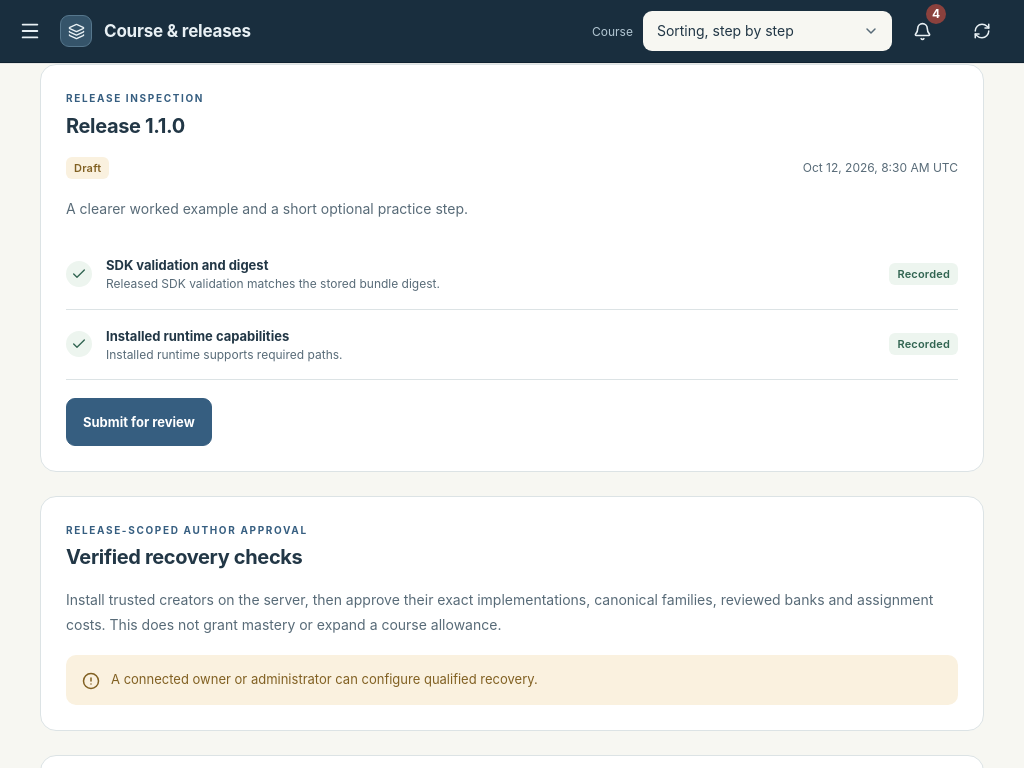
Test: admin presentation workflows › keeps release publication gated through the review state
(page scrolled)
Click the button "Submit for review" at (139, 422), box [66, 398, 212, 446]
(page scrolled)
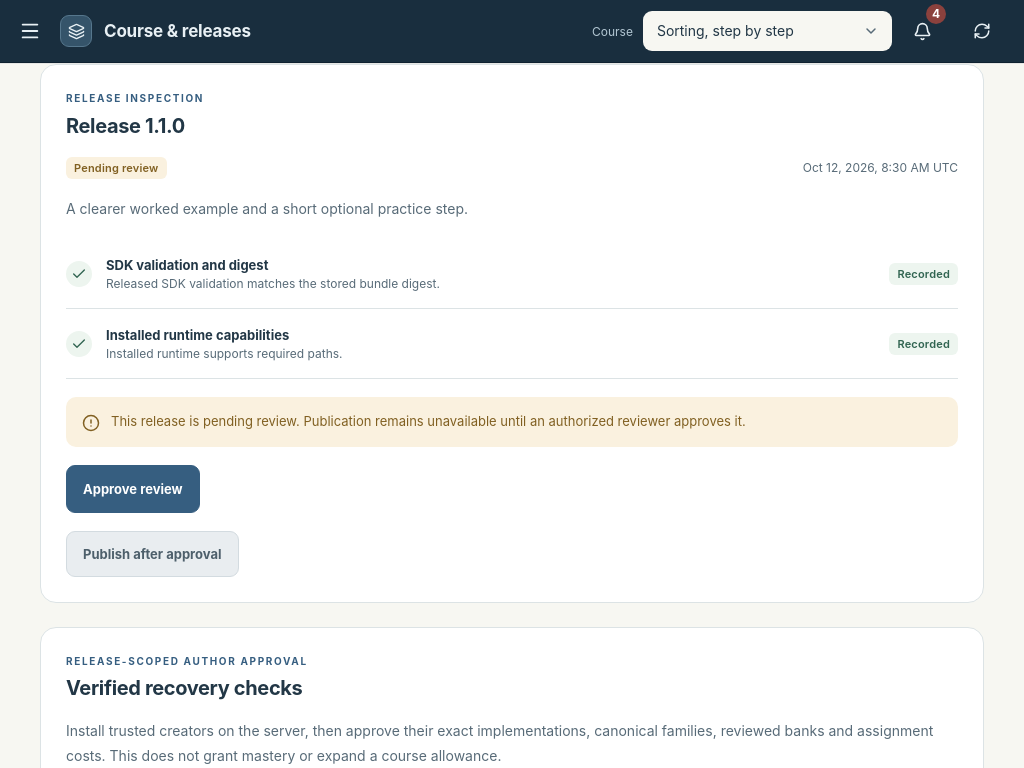
Check: the button "Publish after approval" is disabled, box [66, 531, 239, 577]
Click the button "Approve review" at (133, 489), box [66, 465, 200, 513]
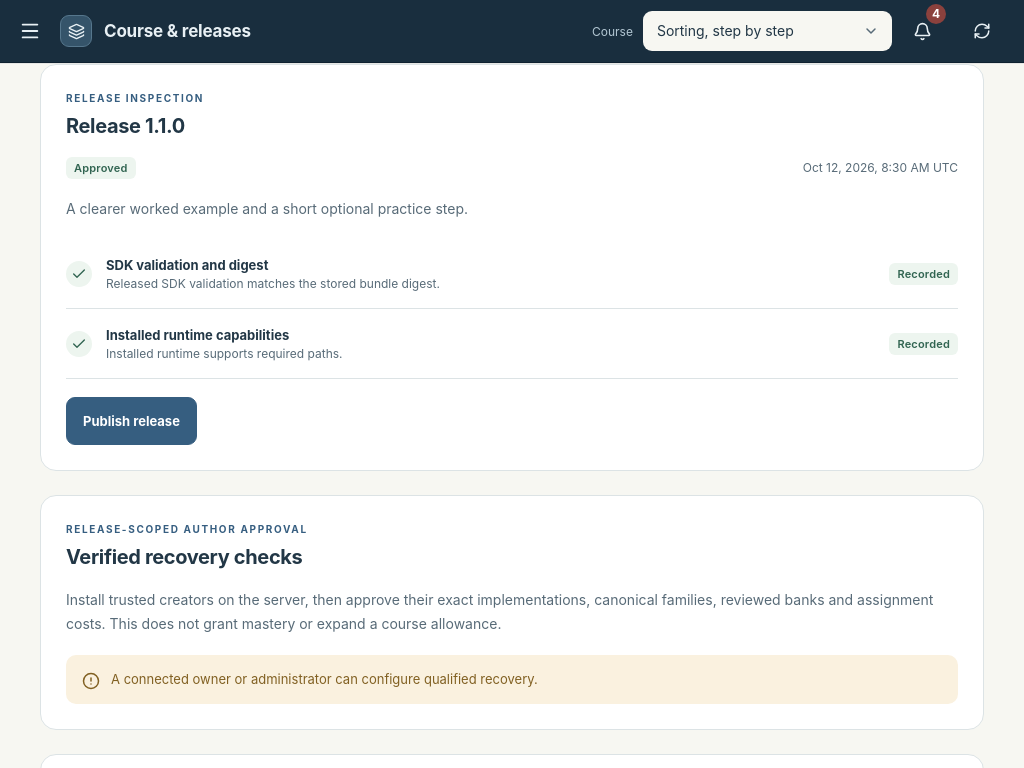
Click the button "Publish release" at (131, 422), box [66, 398, 197, 446]
(page scrolled)
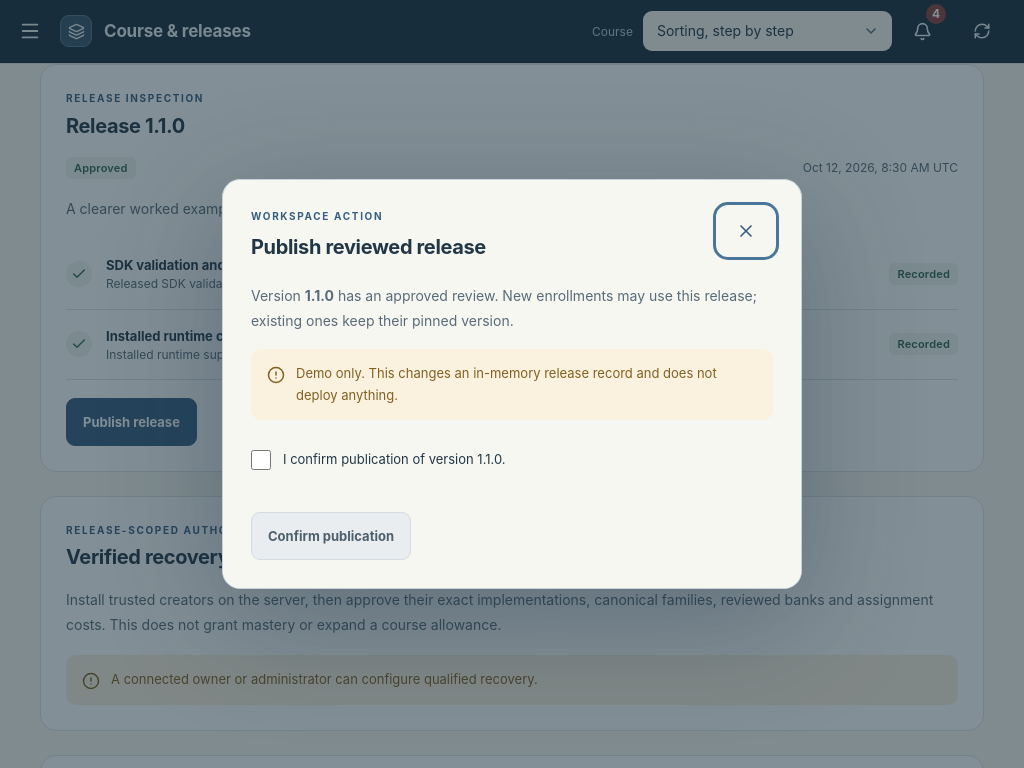
Check: the button "Confirm publication" is disabled, box [251, 512, 411, 560]
Click the checkbox at (261, 460), box [251, 450, 271, 470]
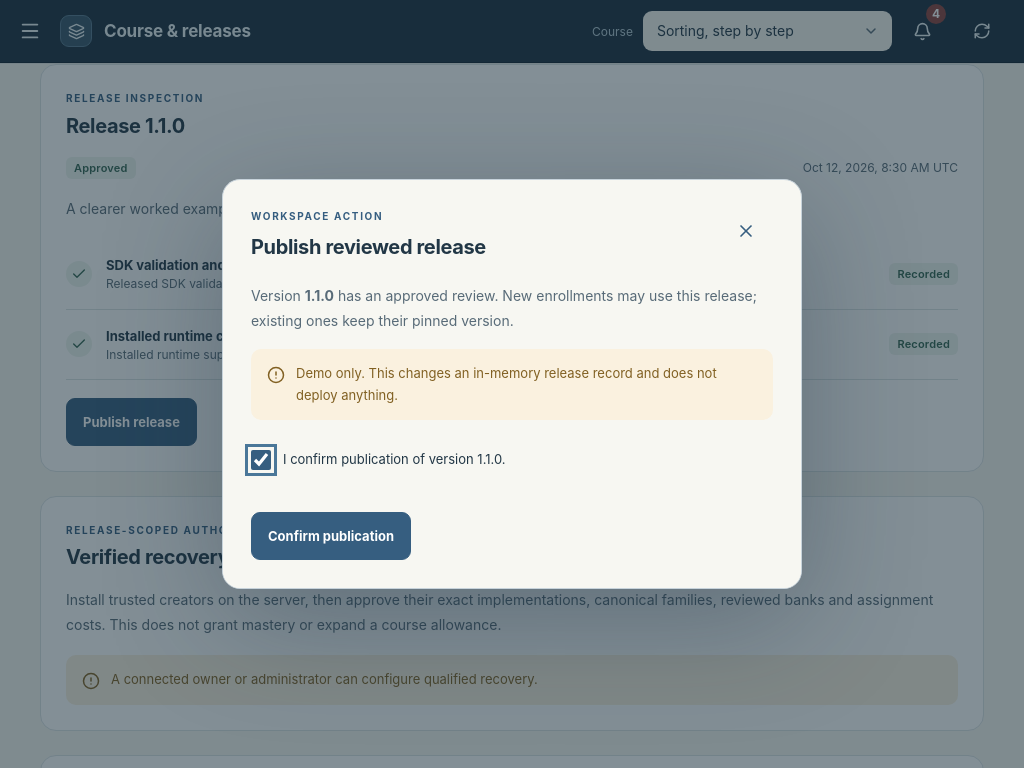
Click the button "Confirm publication" at (331, 536), box [251, 512, 411, 560]
(page scrolled)
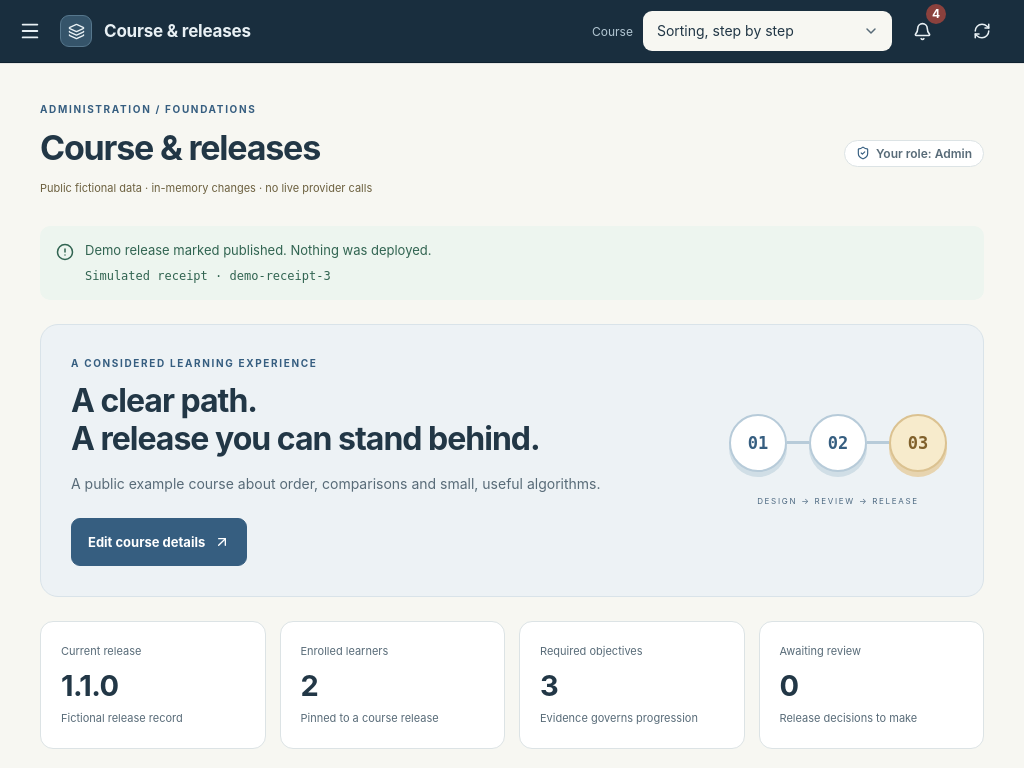
Check: the dialog is gone
Check: the text "Demo release marked published. Nothing was deployed." is shown, box [85, 242, 432, 258]
